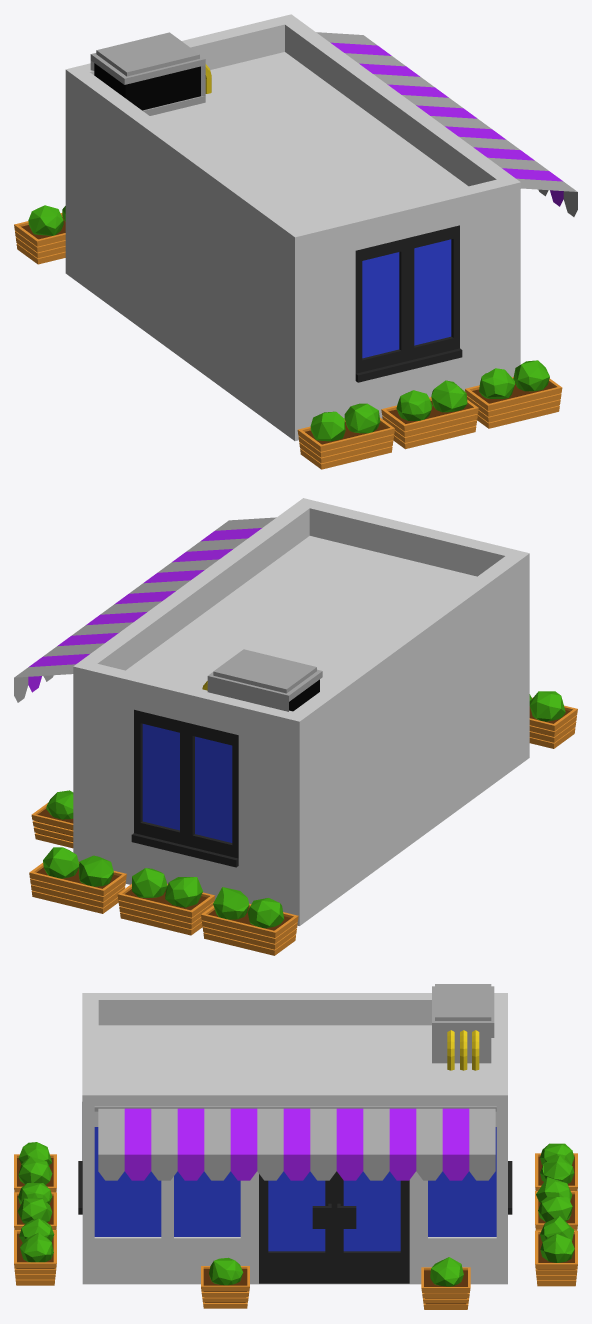
File: Casa_1.fbx
3 renders of one model, top to bottom at view 1: azimuth 30°, elevation 25°; view 2: azimuth 150°, elevation 25°; view 3: azimuth 270°, elevation 25°, orthographic. The views are drawn at different scales.
Parts seen in each view (by area): view 1: casa, tetto, tenda, finestra 1.001, finestra 1, condizionatore, vaso.002, vaso, vaso.001, vaso.005, Icosfera.001, Icosfera.002 (+5 smaller); view 2: casa, tetto, tenda, finestra 2.001, finestra 2, condizionatore, vaso.005, vaso.006, vaso.003, vaso.002, vaso.007, Icosfera.008 (+7 smaller); view 3: tetto, tenda, casa, casa.001, porta.001, porta, condizionatore, vaso.007, vaso.004, vaso.006, vaso, tenda.001 (+21 smaller).
Part boxes in pixels (x1=…): casa: x1=65, y1=76, x2=520, y2=439; tetto: x1=65, y1=14, x2=520, y2=243; tenda: x1=316, y1=32, x2=577, y2=216; finestra 1.001: x1=362, y1=239, x2=451, y2=358; finestra 1: x1=355, y1=225, x2=462, y2=382; condizionatore: x1=90, y1=32, x2=205, y2=115; vaso.002: x1=297, y1=417, x2=394, y2=469; vaso: x1=465, y1=377, x2=562, y2=428; vaso.001: x1=381, y1=397, x2=478, y2=449; vaso.005: x1=14, y1=213, x2=65, y2=264; Icosfera.001: x1=513, y1=360, x2=549, y2=391; Icosfera.002: x1=431, y1=380, x2=467, y2=412; casa: x1=73, y1=553, x2=529, y2=924; tetto: x1=73, y1=498, x2=529, y2=727; tenda: x1=14, y1=517, x2=276, y2=702; finestra 2.001: x1=142, y1=724, x2=232, y2=842; finestra 2: x1=131, y1=709, x2=238, y2=867; condizionatore: x1=207, y1=649, x2=322, y2=711; vaso.005: x1=201, y1=903, x2=298, y2=955; vaso.006: x1=29, y1=862, x2=126, y2=913; vaso.003: x1=117, y1=883, x2=215, y2=935; vaso.002: x1=529, y1=697, x2=577, y2=748; vaso.007: x1=31, y1=802, x2=73, y2=848; Icosfera.008: x1=165, y1=877, x2=202, y2=907; tetto: x1=82, y1=993, x2=507, y2=1101; tenda: x1=98, y1=1108, x2=495, y2=1180; casa: x1=82, y1=1095, x2=507, y2=1282; casa.001: x1=94, y1=1127, x2=496, y2=1236; porta.001: x1=268, y1=1171, x2=400, y2=1251; porta: x1=259, y1=1171, x2=409, y2=1283; condizionatore: x1=432, y1=984, x2=494, y2=1063; vaso.007: x1=421, y1=1267, x2=470, y2=1309; vaso.004: x1=201, y1=1266, x2=249, y2=1308; vaso.006: x1=535, y1=1230, x2=577, y2=1286; vaso: x1=14, y1=1230, x2=56, y2=1285; tenda.001: x1=94, y1=1106, x2=496, y2=1111.
Bounding box in the file's own units: 473 × 332 × 816.
